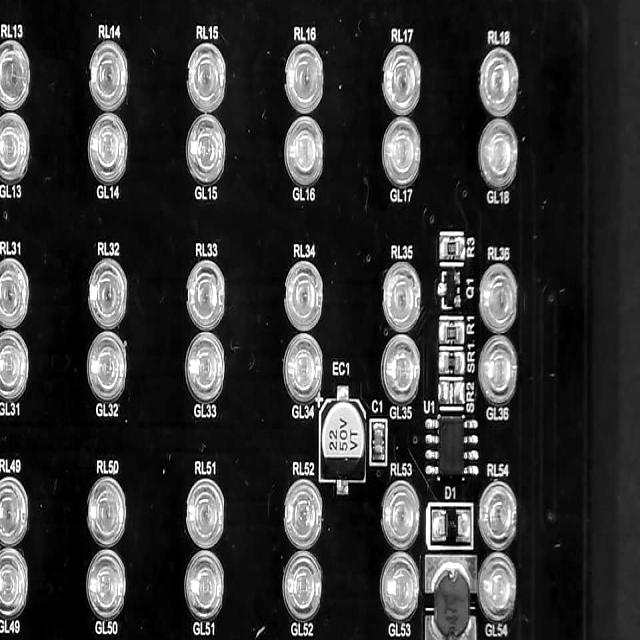Capacitor: (322, 402, 365, 480), (374, 425, 384, 455)
Diode: (440, 513, 464, 538)
IC: (438, 416, 466, 483)
Inductor: (434, 566, 470, 640)
Mosfet: (440, 270, 461, 308)
Register: (444, 352, 461, 372), (444, 382, 460, 402), (444, 241, 459, 256), (445, 326, 460, 340)
Soldering: (436, 380, 447, 402), (434, 514, 442, 540), (457, 353, 465, 376), (464, 512, 470, 542), (439, 321, 447, 342), (439, 353, 447, 371), (458, 382, 464, 404), (458, 238, 464, 259), (442, 235, 447, 259), (458, 324, 463, 344)
led: (379, 548, 422, 622), (85, 546, 128, 620), (83, 477, 127, 549), (86, 332, 130, 403), (184, 42, 228, 112), (86, 257, 128, 330), (87, 110, 130, 180), (185, 475, 225, 550), (478, 331, 519, 404), (382, 43, 423, 116), (382, 260, 423, 333), (284, 44, 326, 115), (185, 260, 227, 331), (479, 117, 520, 189), (380, 332, 421, 404), (284, 116, 326, 186), (478, 261, 518, 334), (283, 548, 324, 619), (185, 550, 226, 621), (380, 115, 422, 184), (284, 260, 324, 332), (185, 114, 227, 182), (478, 553, 518, 623), (478, 479, 518, 549), (183, 334, 224, 402), (480, 47, 519, 118), (90, 42, 129, 113), (283, 333, 323, 402), (284, 478, 323, 548), (382, 478, 418, 550), (0, 38, 31, 110), (0, 327, 31, 398), (0, 112, 30, 182), (0, 257, 29, 328), (0, 545, 28, 618), (0, 475, 28, 545)
